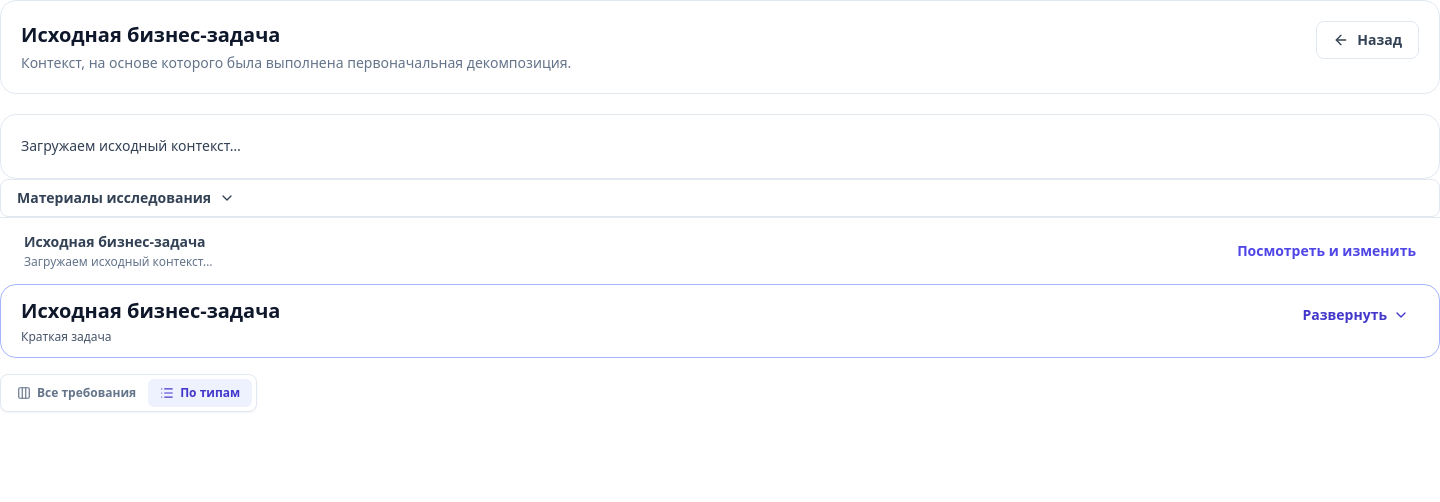
Test: AsyncJobWorkspace presentational branches › covers context, source menu, layout toggle and compact input card states
Later steps or results of the test are not shown.
Expected: the text named "Текст исходной бизнес-задачи" shows "Загружаем исходный контекст", [21, 136, 241, 155]
What coordinates should you click on to do the following:
click the heading "Материалы исследования"
I would click on:
 (114, 197)
Its box is [0, 179, 1439, 217].
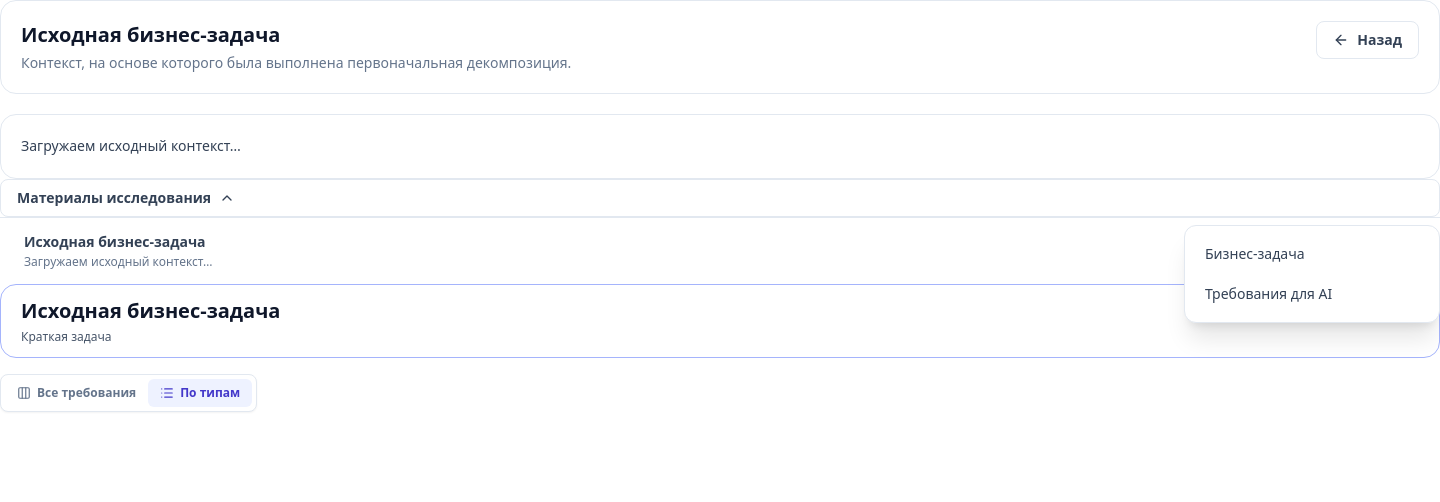
What coordinates should you click on to do the following:
click the button "Бизнес-задача"
I would click on:
 (1312, 254)
Its box is [1193, 234, 1431, 274].
What coordinates should you click on to do the following:
click the heading named "Исходный бизнес-контекст"
I would click on:
 (115, 241)
Its box is [24, 232, 1416, 270].
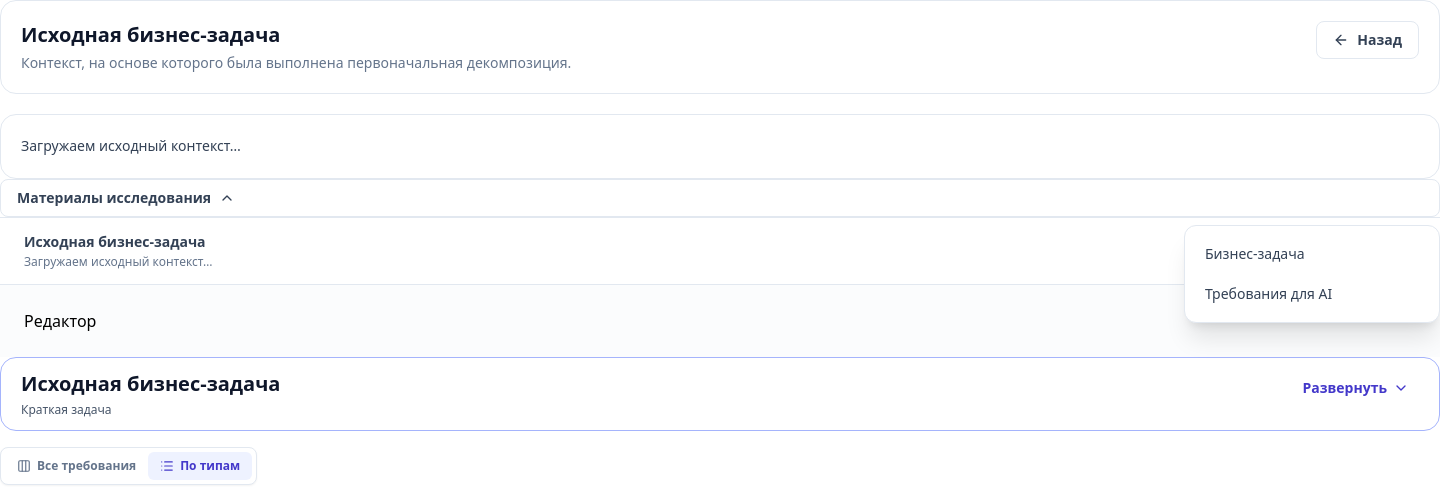
Now the text "Редактор" is shown, box [24, 310, 96, 332]
